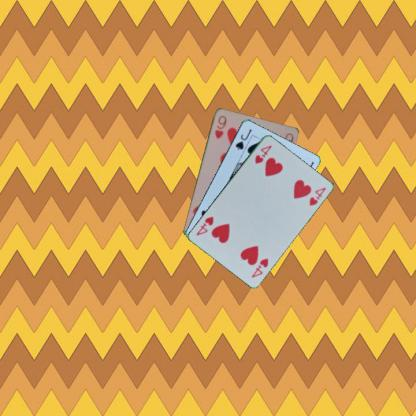4h: (248, 256, 270, 278), (252, 142, 273, 165)
9h: (212, 112, 228, 140)
Js: (233, 126, 253, 151)
